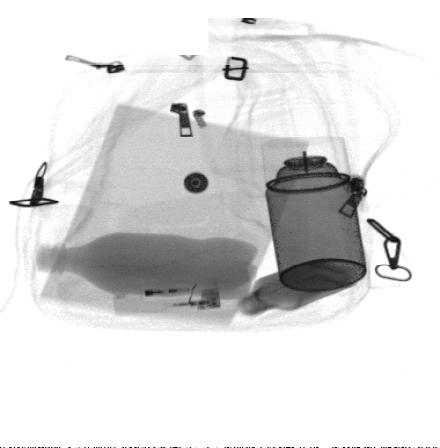Lighter: (112, 279, 221, 316)
Sprayer: (262, 137, 366, 292)
